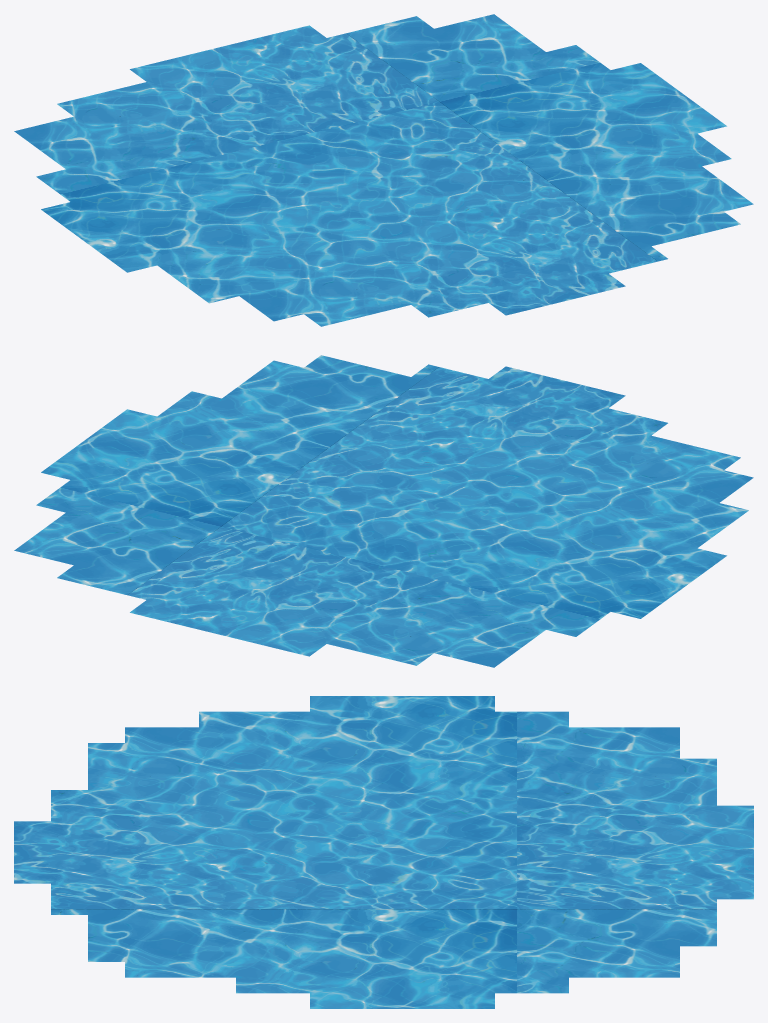
Rendered from Sea.obj.
3 views of the same model, one above another, from view 1: azimuth 30°, elevation 25°; view 2: azimuth 150°, elevation 25°; view 3: azimuth 270°, elevation 25° (orthographic). The views are drawn at different scales.
Visible parts, largest first — view 1: Sea1:pPlane1 group126; view 2: Sea1:pPlane1 group126; view 3: Sea1:pPlane1 group126.
Boxes of the visible parts, x1=… form: Sea1:pPlane1 group126: x1=14, y1=14, x2=753, y2=326; Sea1:pPlane1 group126: x1=14, y1=355, x2=753, y2=667; Sea1:pPlane1 group126: x1=14, y1=696, x2=753, y2=1008.
Bounding box in the file's own units: 1.24 × 0 × 1.24.
1 material, 1 textured.
